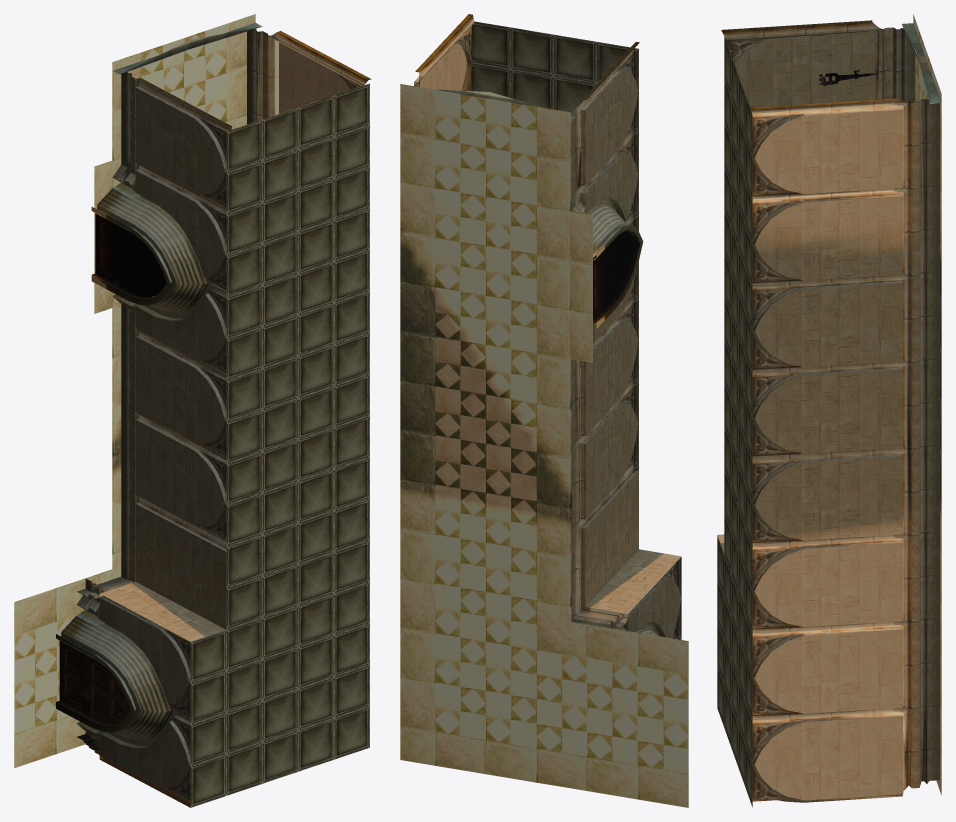
File: Third-v2.glb
3 views of the same model, side by side, from view 1: azimuth 30°, elevation 25°; view 2: azimuth 150°, elevation 25°; view 3: azimuth 270°, elevation 25° (orthographic). The views are drawn at different scales.
Parts seen in each view (by area): view 1: Third_Hogwarts_Baked, Third_Reveal; view 2: Third_Hogwarts_Baked; view 3: Third_Hogwarts_Baked.
Boxes of the visible parts, x1,y1,x2,y2 form: Third_Hogwarts_Baked: [14, 14, 371, 807]; Third_Reveal: [59, 641, 133, 724]; Third_Hogwarts_Baked: [400, 14, 688, 807]; Third_Hogwarts_Baked: [717, 14, 941, 807].
Size of the model in its own units: 0.8844 by 1.98 by 0.5718.
1 material, 1 textured.
